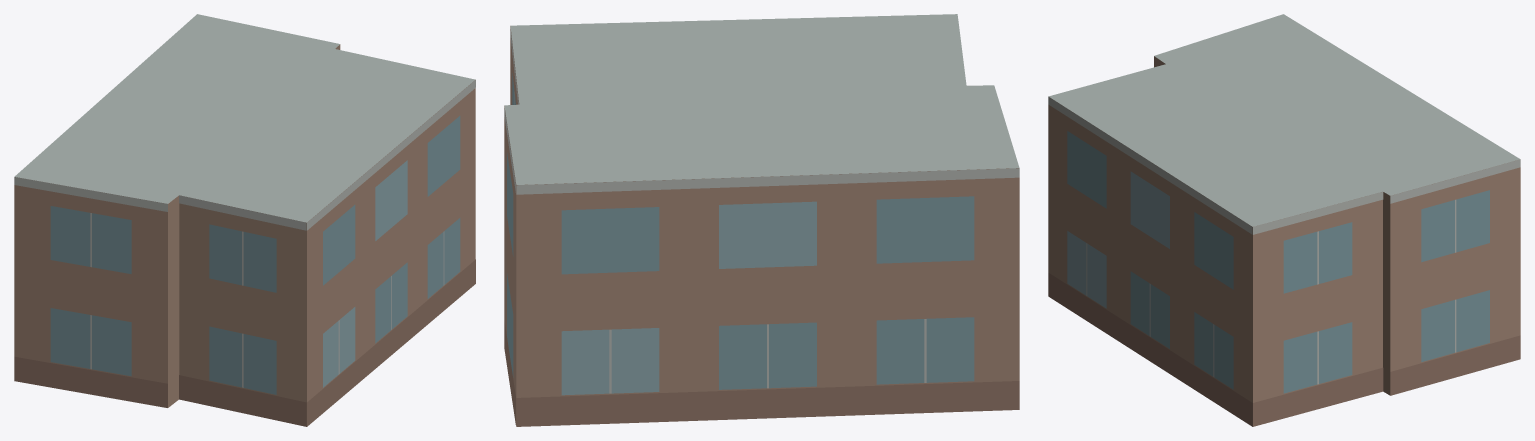
Rendered from survey-upis-32650510.glb.
3 views of the same model, side by side, from view 1: azimuth 30°, elevation 25°; view 2: azimuth 150°, elevation 25°; view 3: azimuth 270°, elevation 25° (orthographic). The views are drawn at different scales.
Parts seen in each view (by area): view 1: survey-upis-32650510.tmp; view 2: survey-upis-32650510.tmp; view 3: survey-upis-32650510.tmp.
Part boxes in pixels (bbox=[...]): survey-upis-32650510.tmp: bbox=[14, 14, 475, 426]; survey-upis-32650510.tmp: bbox=[504, 14, 1019, 426]; survey-upis-32650510.tmp: bbox=[1048, 14, 1520, 426].
Size of the model in its own units: 13.94 by 6.1 by 13.07.
